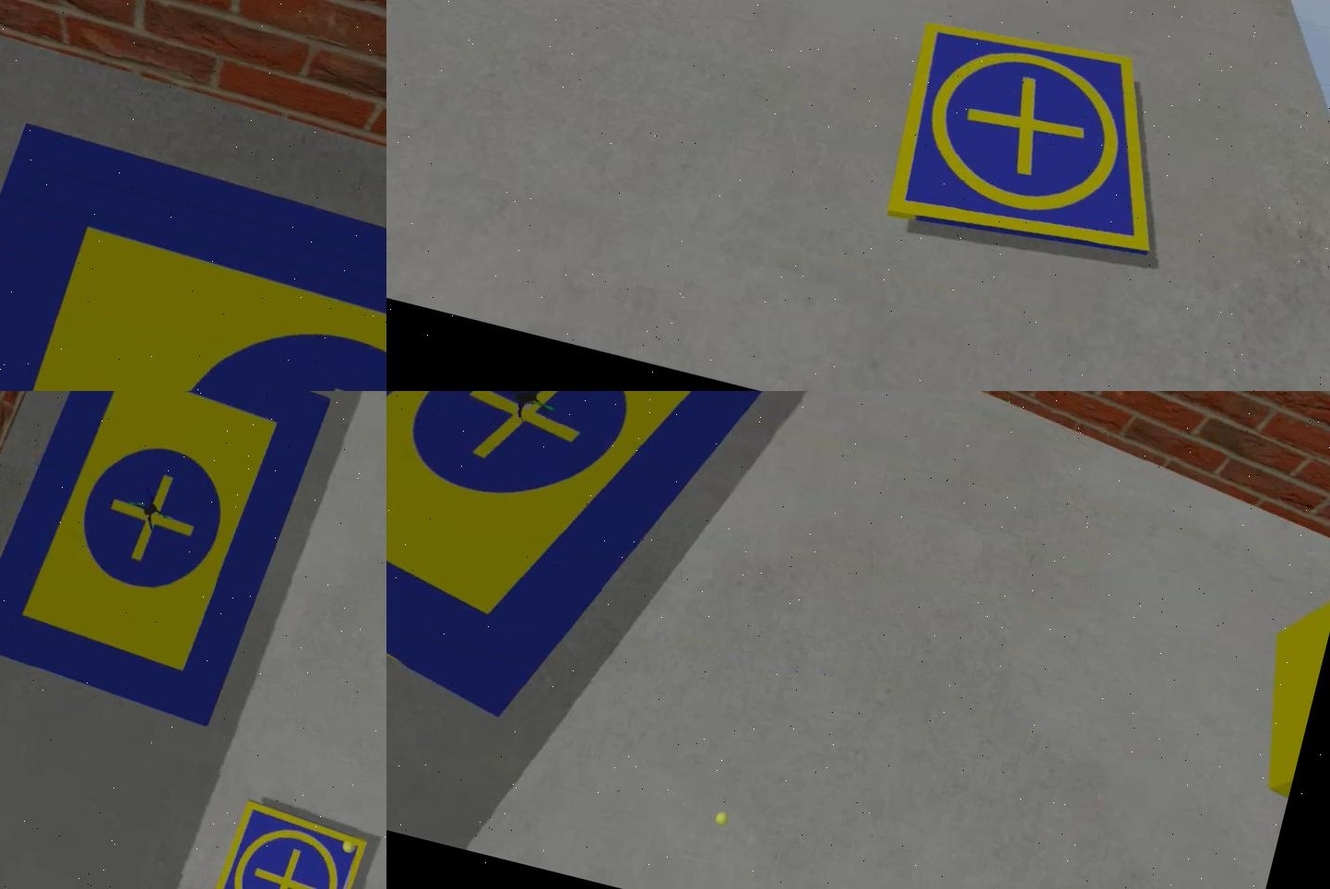large_base: (385, 391, 813, 768), (0, 391, 338, 738), (0, 110, 385, 391)
small_base: (869, 2, 1196, 291), (201, 795, 373, 889)
